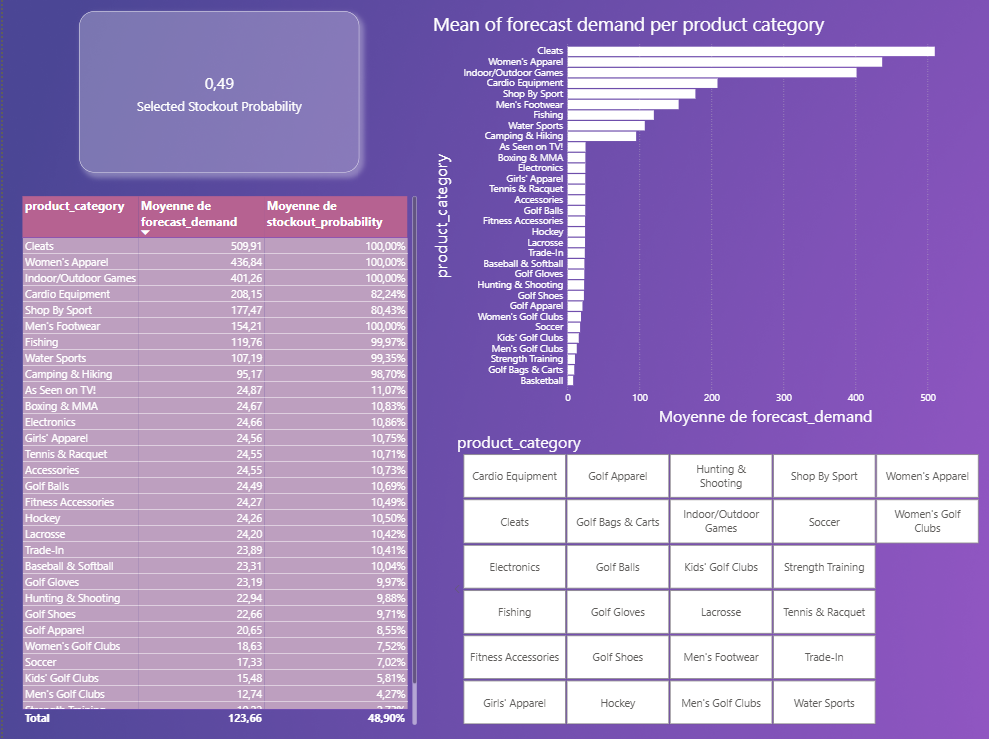

The dashboard page shown, as its layout file describes it:
{"tool":"powerbi","page":{"name":"Demand Forecast & Risk","canvas":[2000,4000],"ordinal":4},"visuals":[{"type":"tableEx","fields":{"Values":["public demand_forecast.product_category","Avg(public demand_forecast.forecast_demand)","Avg(public demand_forecast.stockout_probability)"]},"box":[32.5,397.5,800,1067.5],"z":0},{"type":"clusteredBarChart","title":"Mean of forecast demand per product category","fields":{"Category":["public demand_forecast.product_category"],"Y":["Avg(public demand_forecast.forecast_demand)"]},"box":[855,32.5,1087.5,835],"z":1000},{"type":"slicer","fields":{"Values":["public demand_forecast.product_category"]},"box":[895,867.5,1080,597.5],"z":2000},{"type":"card","fields":{"Values":["public demand_forecast.Selected Stockout Probability"]},"box":[152.5,32.5,560,322.5],"z":3000}]}

Visuals, with their boxes on the page's 2000x4000 design canvas (x1, y1, x2, y2). These are canvas units, not pixel positions in the 989x739 screenshot, which may show the page scaled, cropped or inside an application window:
tableEx - public demand_forecast.product_category x Avg(public demand_forecast.forecast_demand): select_region(32, 398, 832, 1465)
"Mean of forecast demand per product category" clusteredBarChart: select_region(855, 32, 1942, 868)
slicer - public demand_forecast.product_category: select_region(895, 868, 1975, 1465)
card - public demand_forecast.Selected Stockout Probability: select_region(152, 32, 712, 355)
